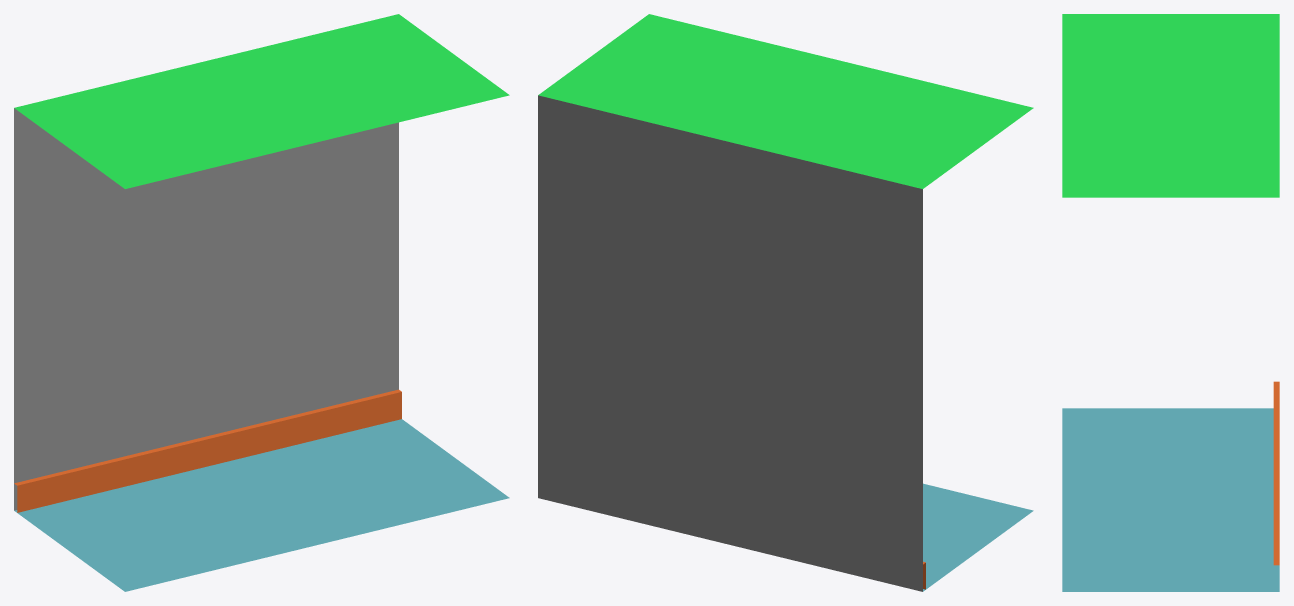
Rendered from ModuleC_side05.FBX.
3 renders of one model, left to right at view 1: azimuth 30°, elevation 25°; view 2: azimuth 150°, elevation 25°; view 3: azimuth 270°, elevation 25°, orthographic. The views are drawn at different scales.
Visible parts, largest first — view 1: ModuleC_wall_02, ModuleC_roof_02, ModuleC_floor_02, ModuleC_skboard_06; view 2: ModuleC_wall_02, ModuleC_roof_02, ModuleC_floor_02; view 3: ModuleC_roof_02, ModuleC_floor_02, ModuleC_skboard_06.
Boxes of the visible parts, box(x1,y1,x2,y2) form: ModuleC_wall_02: box(14, 108, 398, 510); ModuleC_roof_02: box(14, 14, 509, 188); ModuleC_floor_02: box(14, 419, 509, 591); ModuleC_skboard_06: box(14, 389, 401, 512); ModuleC_wall_02: box(538, 95, 922, 591); ModuleC_roof_02: box(538, 14, 1033, 188); ModuleC_floor_02: box(923, 483, 1033, 591); ModuleC_roof_02: box(1062, 14, 1279, 197); ModuleC_floor_02: box(1062, 408, 1279, 591); ModuleC_skboard_06: box(1273, 381, 1279, 565).
Size of the model in its own units: 78.74 by 39.37 by 78.74.
